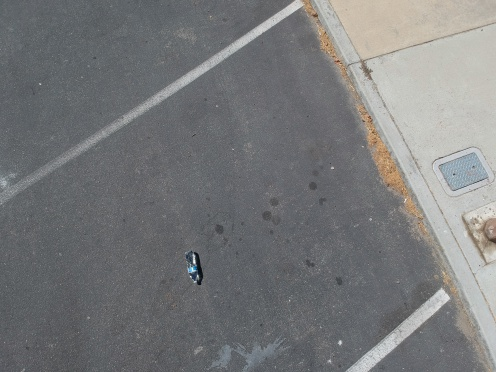bottle: (180, 249, 207, 287)
